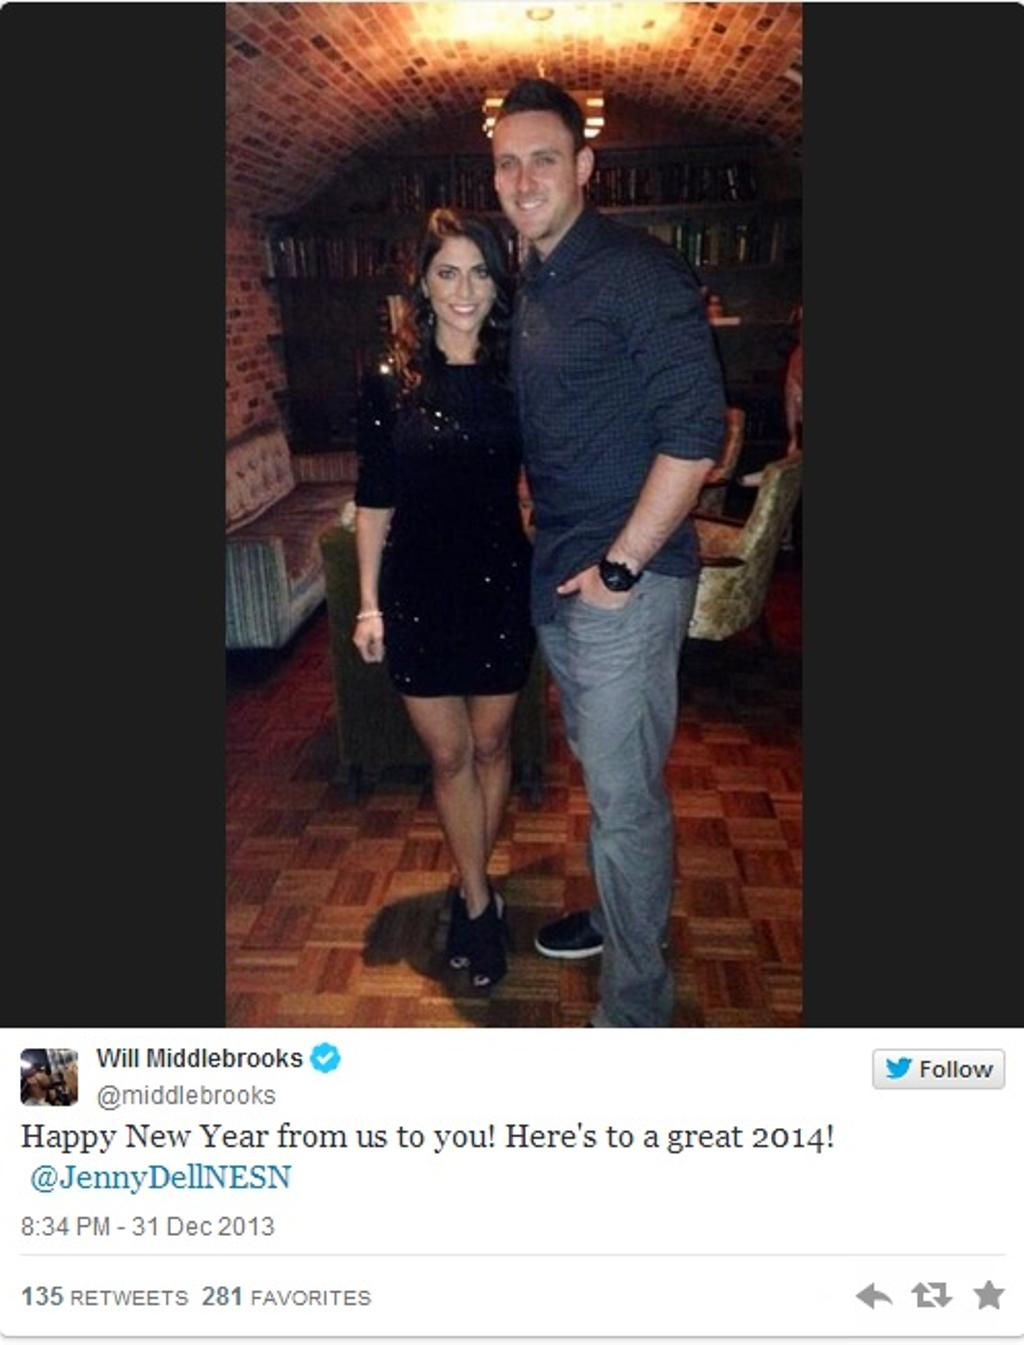face: (494, 121, 575, 237), (428, 226, 502, 334)
